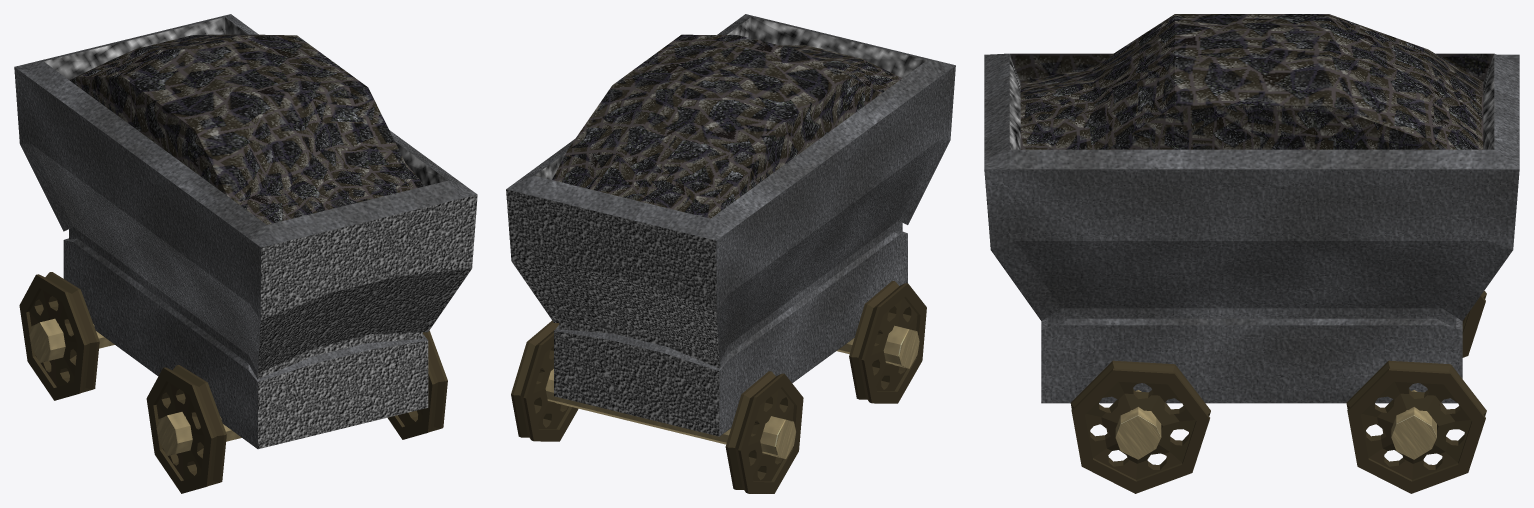
File: carreta.fbx
The picture shows the model from 3 angles, left to right: view 1: azimuth 30°, elevation 25°; view 2: azimuth 150°, elevation 25°; view 3: azimuth 270°, elevation 25°; orthographic projection. The views are drawn at different scales.
Visible parts, largest first — view 1: carreta, rueda.004, rueda.001, rueda.003, palo ruedas.001, palo ruedas.002; view 2: carreta, rueda.001, rueda.004, rueda.002, palo ruedas.002, palo ruedas.001; view 3: carreta, rueda.002, rueda.003, palo ruedas.001, palo ruedas.002, rueda.004.
Boxes of the visible parts, x1,y1,x2,y2 form: carreta: (14, 14, 477, 449); rueda.004: (19, 272, 99, 400); rueda.001: (146, 365, 226, 493); rueda.003: (387, 330, 447, 439); palo ruedas.001: (156, 412, 241, 455); palo ruedas.002: (29, 318, 114, 362); carreta: (506, 14, 955, 436); rueda.001: (849, 281, 926, 403); rueda.004: (725, 371, 803, 493); rueda.002: (511, 320, 578, 441); palo ruedas.002: (545, 369, 795, 458); palo ruedas.001: (837, 325, 919, 368); carreta: (984, 14, 1519, 403); rueda.002: (1346, 360, 1486, 493); rueda.003: (1070, 360, 1210, 493); palo ruedas.001: (1115, 390, 1161, 459); palo ruedas.002: (1391, 390, 1436, 459); rueda.004: (1462, 291, 1486, 357).
Bounding box in the file's own units: 245 × 315 × 395.
